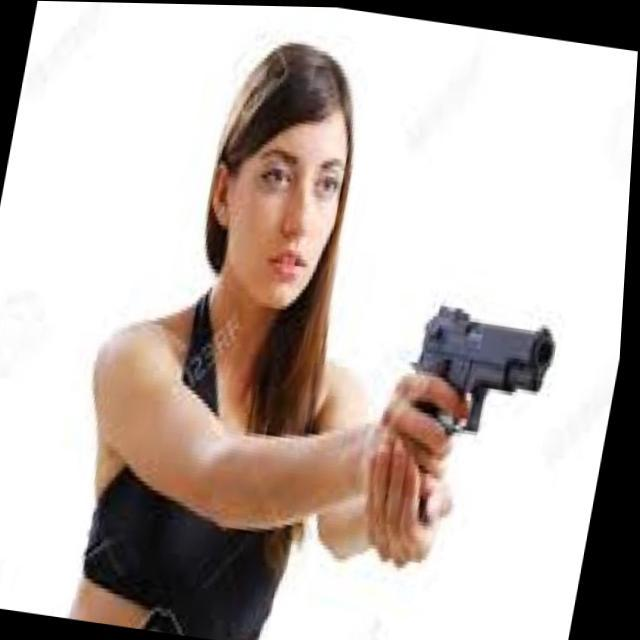weapon: (386, 292, 565, 533)
